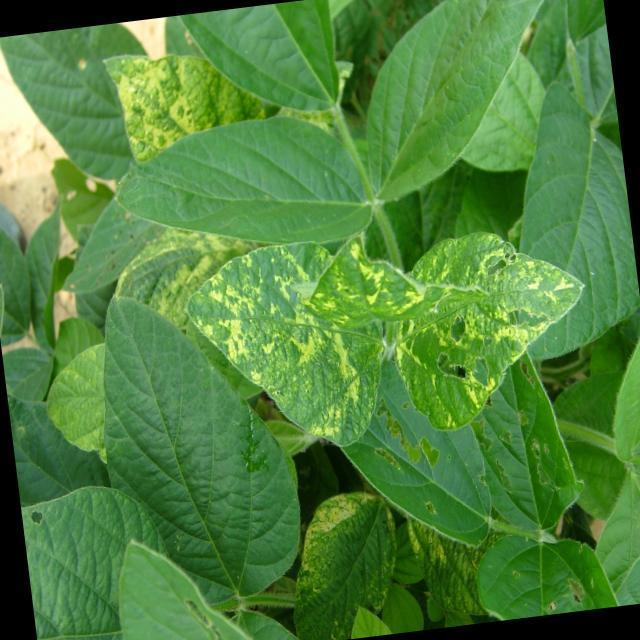Healthy Leaf: (347, 0, 574, 203), (125, 128, 371, 259)
Mosaic Virus: (391, 222, 594, 416), (208, 240, 396, 433), (290, 485, 402, 640), (98, 47, 245, 155)
